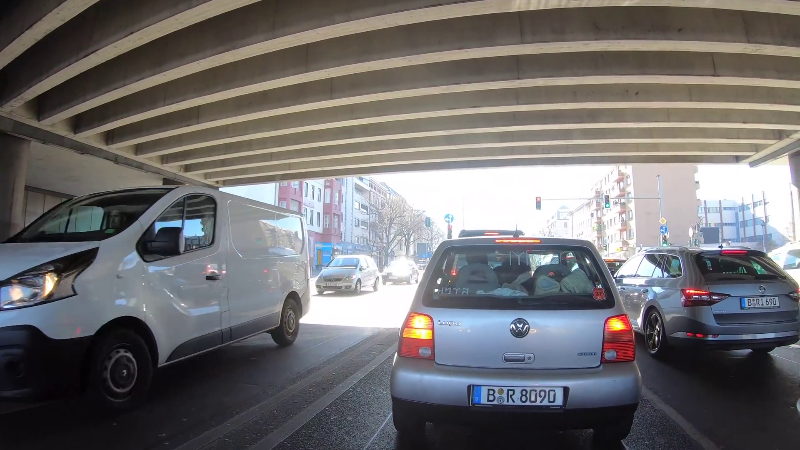Plate: (468, 385, 564, 408), (738, 295, 781, 308)
